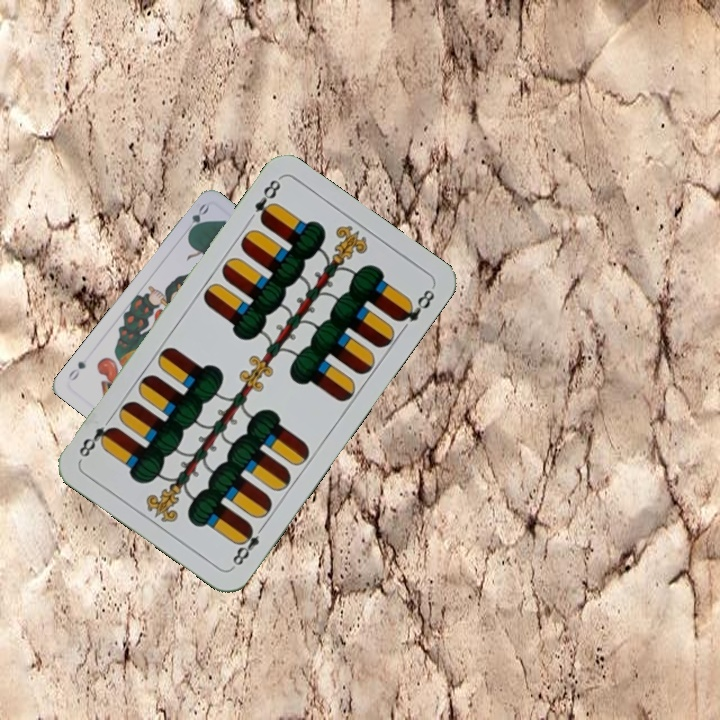E8: (228, 520, 268, 568), (250, 175, 284, 227)
GO: (181, 200, 211, 238)
